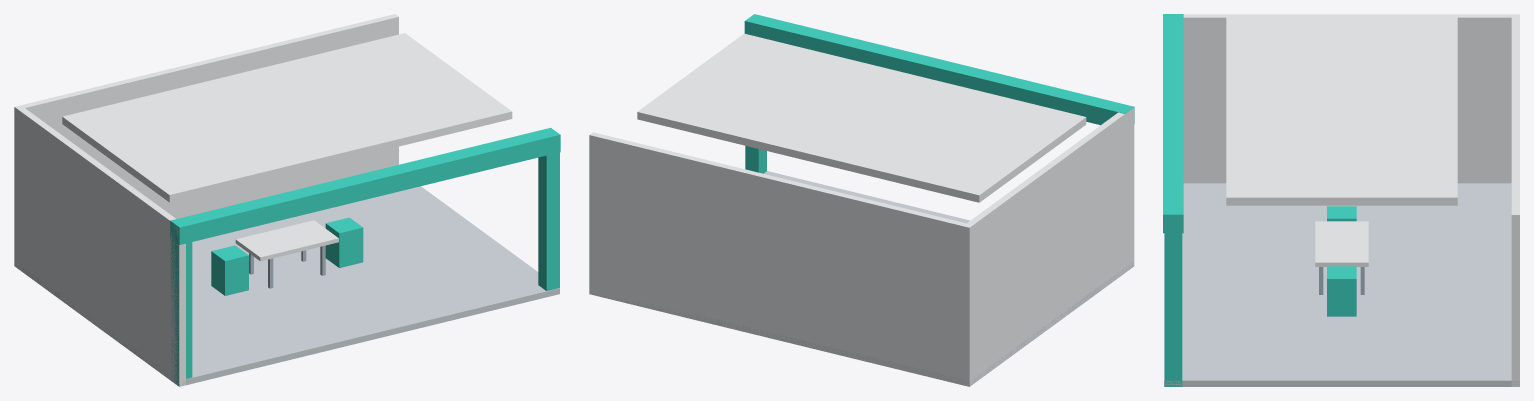
3 views of the same model, side by side, from view 1: azimuth 30°, elevation 25°; view 2: azimuth 150°, elevation 25°; view 3: azimuth 270°, elevation 25° (orthographic). The views are drawn at different scales.
Visible parts, largest first — view 1: Exhibition Booth Concept; view 2: Exhibition Booth Concept; view 3: Exhibition Booth Concept.
Part boxes in pixels (x1,y1,x2,y2): Exhibition Booth Concept: (14,14,560,386); Exhibition Booth Concept: (589,14,1134,386); Exhibition Booth Concept: (1163,14,1519,386).
Bounding box in the file's own units: 8 × 3.34 × 6.02.
